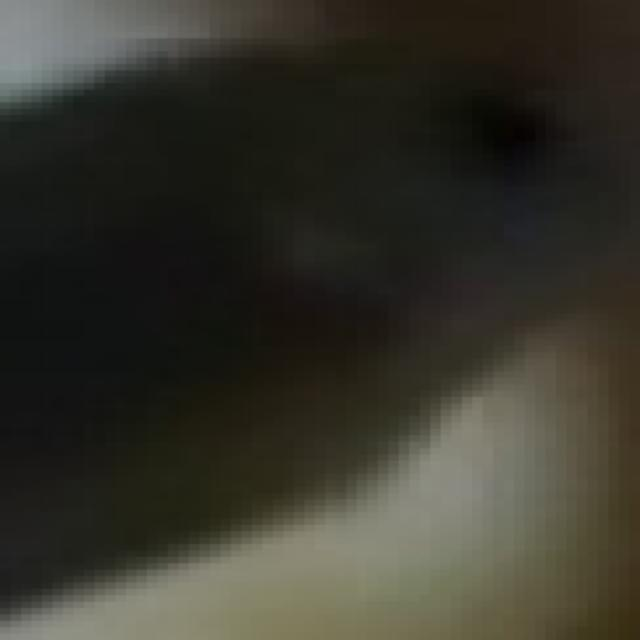fish: (10, 6, 640, 640)
